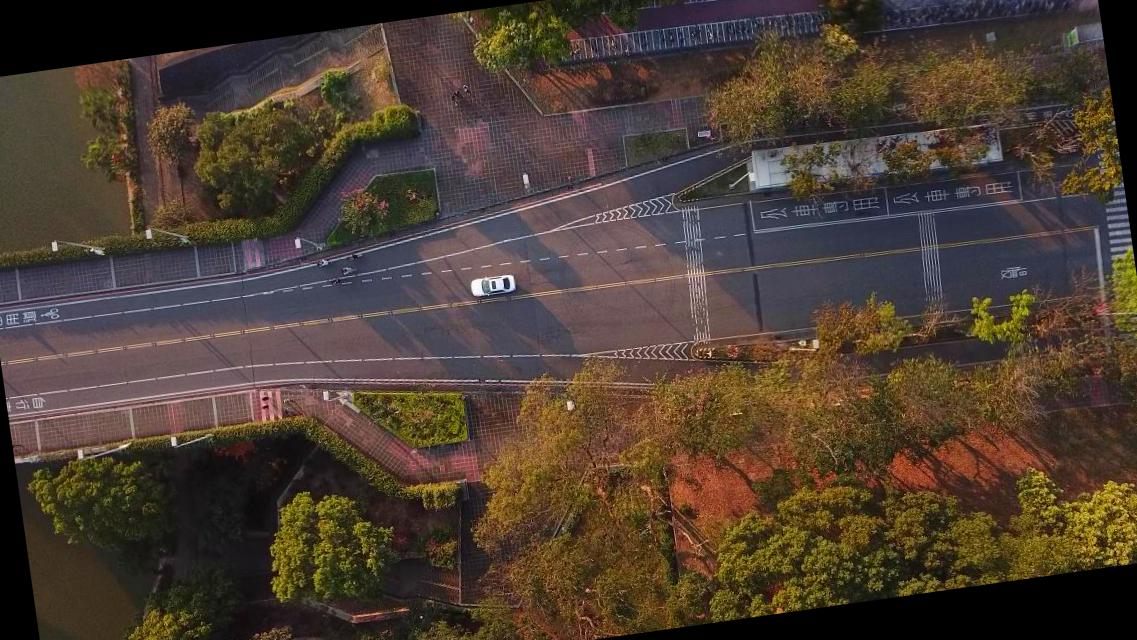vehicle: (469, 271, 517, 299)
